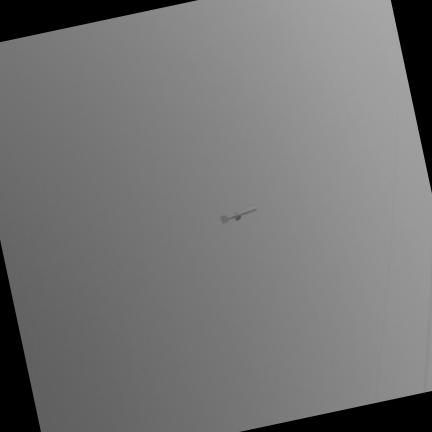Shahed: (221, 207, 256, 222)
